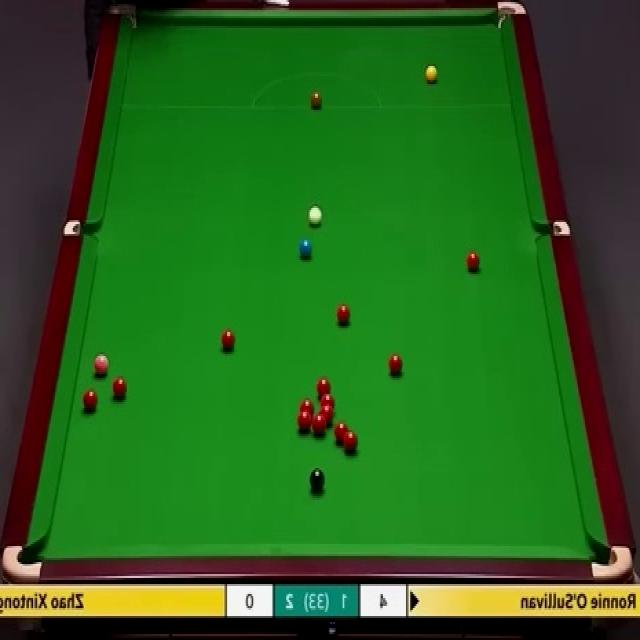black-ball: (309, 468, 326, 490)
blue-ball: (298, 238, 314, 260)
brown-ball: (310, 90, 324, 110)
pink-ball: (92, 354, 110, 377)
red-ball: (82, 388, 99, 411), (112, 374, 127, 400), (342, 428, 357, 454), (220, 328, 237, 350), (336, 302, 351, 326), (388, 352, 404, 374), (334, 421, 349, 444), (297, 409, 311, 433), (317, 376, 331, 398), (312, 414, 326, 436), (467, 252, 481, 273), (320, 393, 336, 411), (320, 405, 333, 425), (298, 397, 314, 413)
white-ball: (308, 204, 323, 228)
yellow-ball: (426, 65, 438, 86)
